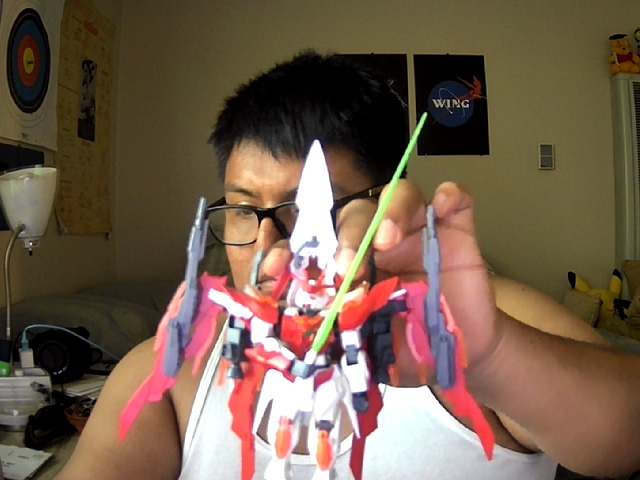Honoo: (115, 138, 494, 480)
